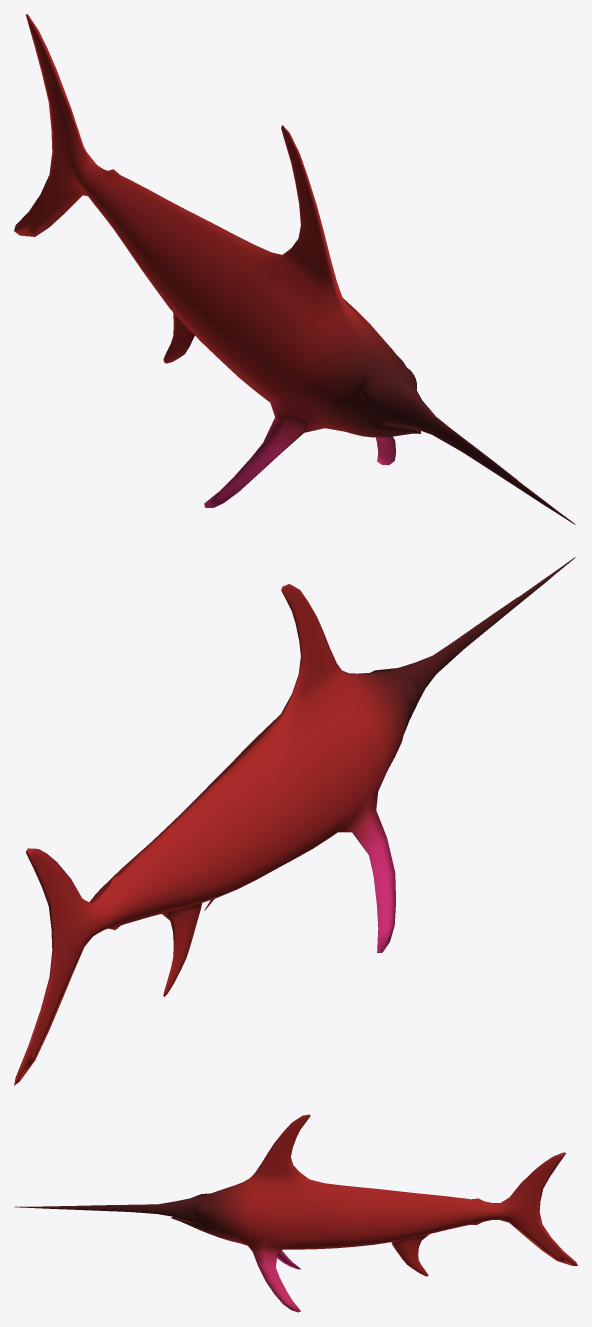
The picture shows the model from 3 angles, top to bottom: view 1: azimuth 30°, elevation 25°; view 2: azimuth 150°, elevation 25°; view 3: azimuth 270°, elevation 25°; orthographic projection. The views are drawn at different scales.
Visible parts, largest first — view 1: SwordfishExport; view 2: SwordfishExport; view 3: SwordfishExport.
Part boxes in pixels (bbox=[...]): SwordfishExport: bbox=[14, 14, 575, 524]; SwordfishExport: bbox=[14, 557, 575, 1085]; SwordfishExport: bbox=[14, 1114, 577, 1312].
Size of the model in its own units: 0.5627 by 1.07 by 3.09.
